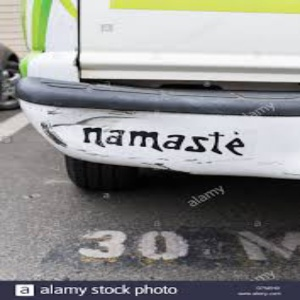bumper: (114, 153, 280, 216)
